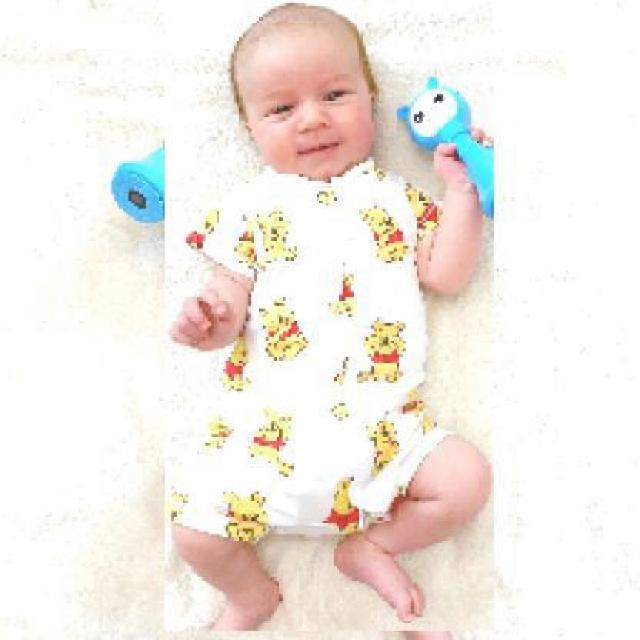child: (163, 1, 494, 632)
